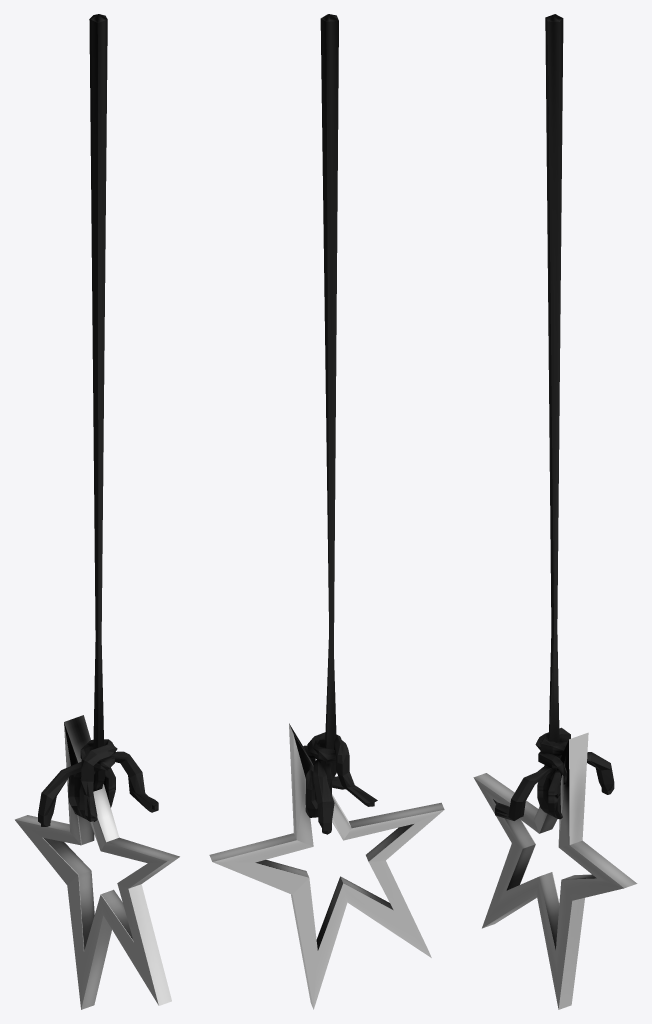
The picture shows the model from 3 angles, left to right: view 1: azimuth 90°, elevation 25°; view 2: azimuth 150°, elevation 25°; view 3: azimuth 270°, elevation 25°; orthographic projection.
Parts seen in each view (by area): view 1: hangingstar_geo; view 2: hangingstar_geo; view 3: hangingstar_geo.
Boxes of the visible parts, <box> form: hangingstar_geo: <box>15,14,179,1009</box>; hangingstar_geo: <box>209,14,444,1009</box>; hangingstar_geo: <box>473,14,637,1009</box>.
Bounding box in the file's own units: 1.75 × 10 × 1.51.
1 material, 1 textured.
